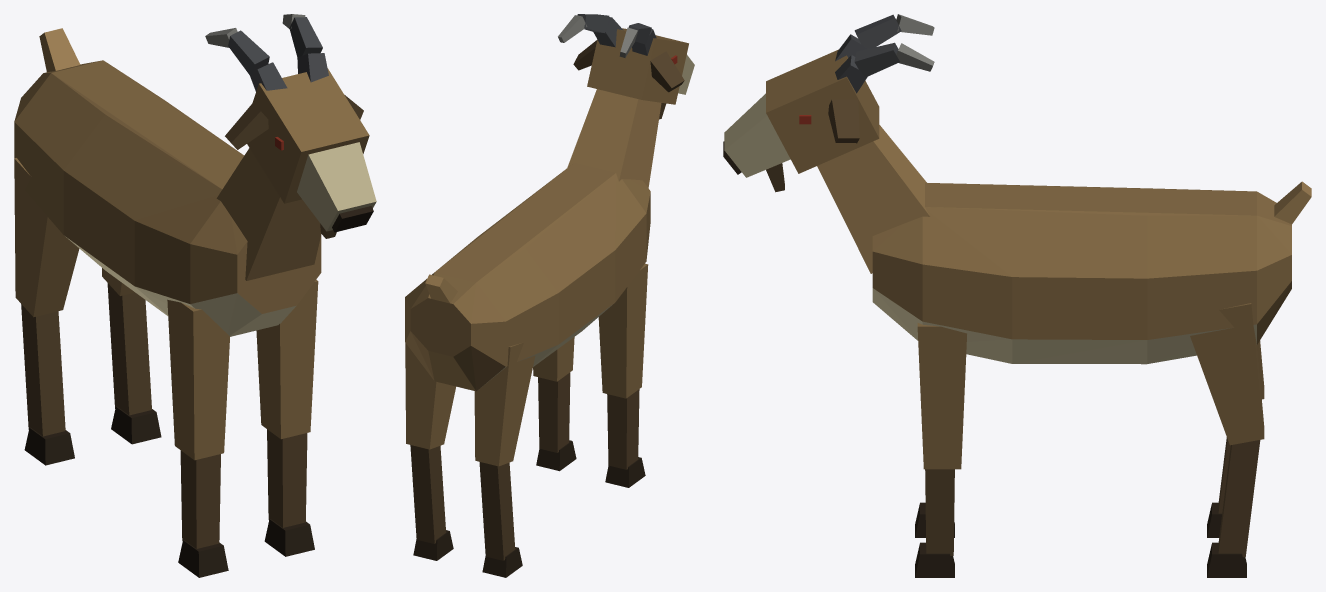
The model's file is goat.glb.
The picture shows the model from 3 angles, left to right: view 1: azimuth 30°, elevation 25°; view 2: azimuth 150°, elevation 25°; view 3: azimuth 270°, elevation 25°; orthographic projection. The views are drawn at different scales.
Parts seen in each view (by area): view 1: body, head, leg_fr, leg_br, leg_fl, neck, leg_bl, tail; view 2: body, leg_br, head, leg_fr, leg_bl, neck, leg_fl, tail; view 3: body, head, leg_bl, leg_fl, neck, leg_br, tail.
Boxes of the visible parts, x1=… form: body: x1=14, y1=60, x2=321, y2=336; head: x1=205, y1=14, x2=376, y2=238; leg_fr: x1=167, y1=299, x2=230, y2=577; leg_br: x1=14, y1=158, x2=79, y2=465; leg_fl: x1=256, y1=279, x2=318, y2=556; neck: x1=216, y1=148, x2=321, y2=280; leg_bl: x1=102, y1=268, x2=161, y2=444; tail: x1=39, y1=28, x2=80, y2=71; body: x1=405, y1=163, x2=650, y2=391; leg_br: x1=474, y1=342, x2=535, y2=577; head: x1=558, y1=14, x2=694, y2=119; leg_fr: x1=598, y1=263, x2=648, y2=487; leg_bl: x1=405, y1=343, x2=455, y2=560; neck: x1=567, y1=89, x2=661, y2=187; leg_fl: x1=533, y1=337, x2=576, y2=471; tail: x1=425, y1=274, x2=457, y2=303; body: x1=872, y1=182, x2=1291, y2=364; head: x1=723, y1=14, x2=934, y2=192; leg_bl: x1=1190, y1=303, x2=1264, y2=577; leg_fl: x1=915, y1=323, x2=966, y2=577; neck: x1=817, y1=125, x2=929, y2=273; leg_br: x1=1207, y1=341, x2=1264, y2=537; tail: x1=1274, y1=181, x2=1311, y2=224.
Bounding box in the file's own units: 0.3141 × 1.15 × 1.18.
